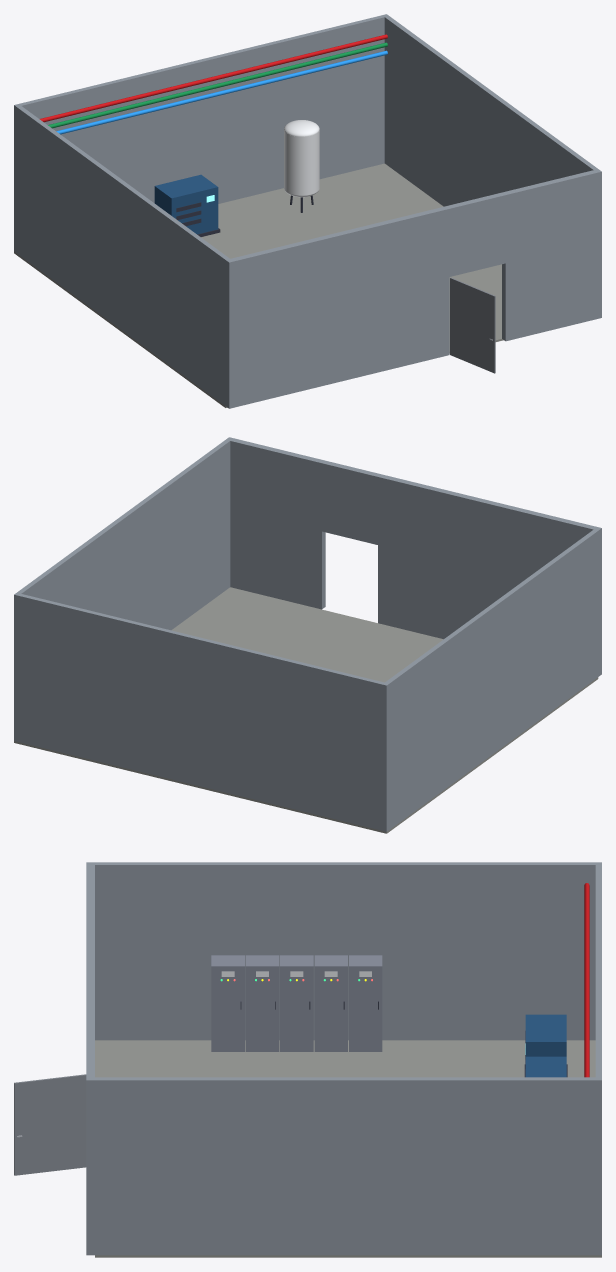
The model's file is ind-007.glb.
3 views of the same model, one above another, from view 1: azimuth 30°, elevation 25°; view 2: azimuth 150°, elevation 25°; view 3: azimuth 270°, elevation 25° (orthographic). The views are drawn at different scales.
Visible parts, largest first — view 1: hangar_cladding, plant_floor, service_door, white, machine_blue, accent_red, safety_green, plastic_blue, dark_steel; view 2: hangar_cladding, plant_floor; view 3: hangar_cladding, plant_floor, locker_grey, service_door, machine_blue, accent_red.
Part boxes in pixels (x1=…): hangar_cladding: x1=14, y1=14, x2=601, y2=408; plant_floor: x1=14, y1=163, x2=503, y2=407; service_door: x1=450, y1=277, x2=495, y2=373; white: x1=284, y1=120, x2=319, y2=197; machine_blue: x1=154, y1=174, x2=218, y2=234; accent_red: x1=39, y1=34, x2=387, y2=122; safety_green: x1=48, y1=42, x2=387, y2=128; plastic_blue: x1=56, y1=50, x2=387, y2=134; dark_steel: x1=176, y1=195, x2=313, y2=236; hangar_cladding: x1=14, y1=437, x2=601, y2=831; plant_floor: x1=14, y1=587, x2=598, y2=833; hangar_cladding: x1=86, y1=862, x2=601, y2=1255; plant_floor: x1=95, y1=1040, x2=601, y2=1257; locker_grey: x1=211, y1=955, x2=382, y2=1051; service_door: x1=14, y1=1074, x2=86, y2=1175; machine_blue: x1=525, y1=1014, x2=566, y2=1077; accent_red: x1=584, y1=883, x2=589, y2=1077.
Bounding box in the file's own units: 12 × 4.56 × 13.68.
